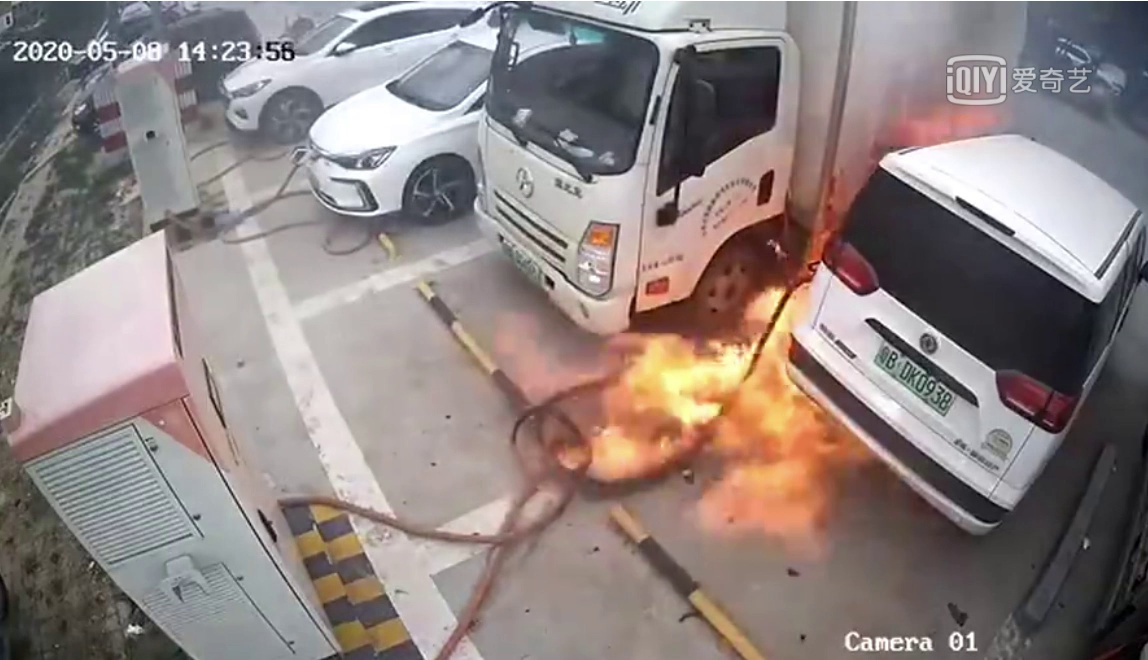fire: (581, 296, 854, 522)
